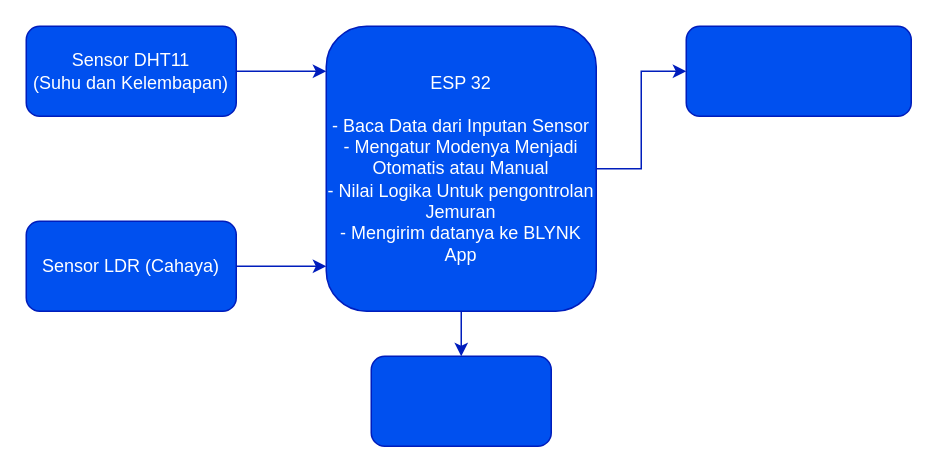
The diagram is 938 pixels wide and 473 high, and some of its shapes have lost their labels. The box of each missing label's shape, as (x1, y1, x2, y2) in pixels:
Aplikasi Blynk (Monitoring dan Kontrolnya: (685, 25, 911, 116)
Servo Motor: (370, 355, 551, 446)
